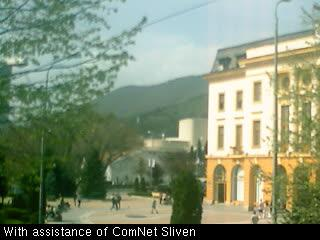person: (258, 198, 265, 220), (151, 198, 159, 214), (115, 193, 122, 211), (265, 200, 271, 220), (251, 211, 260, 224), (77, 191, 83, 208), (110, 193, 115, 210), (73, 192, 78, 206), (159, 191, 163, 205), (164, 192, 168, 205)
